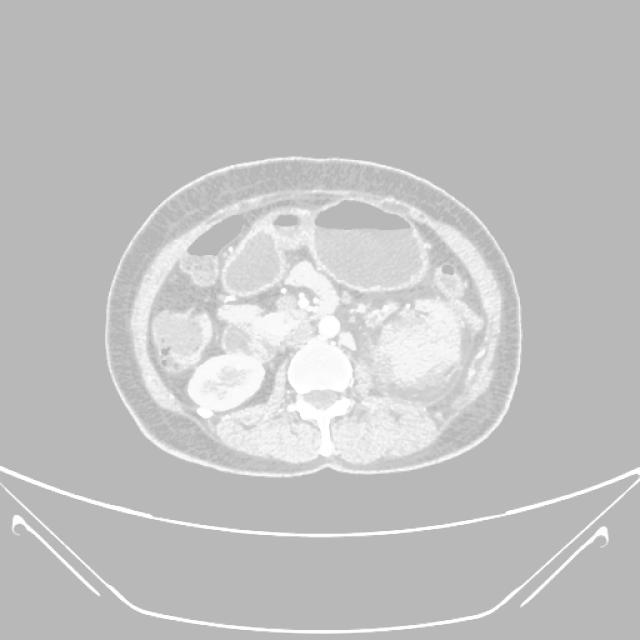TUMOR: (141, 222, 460, 407)
